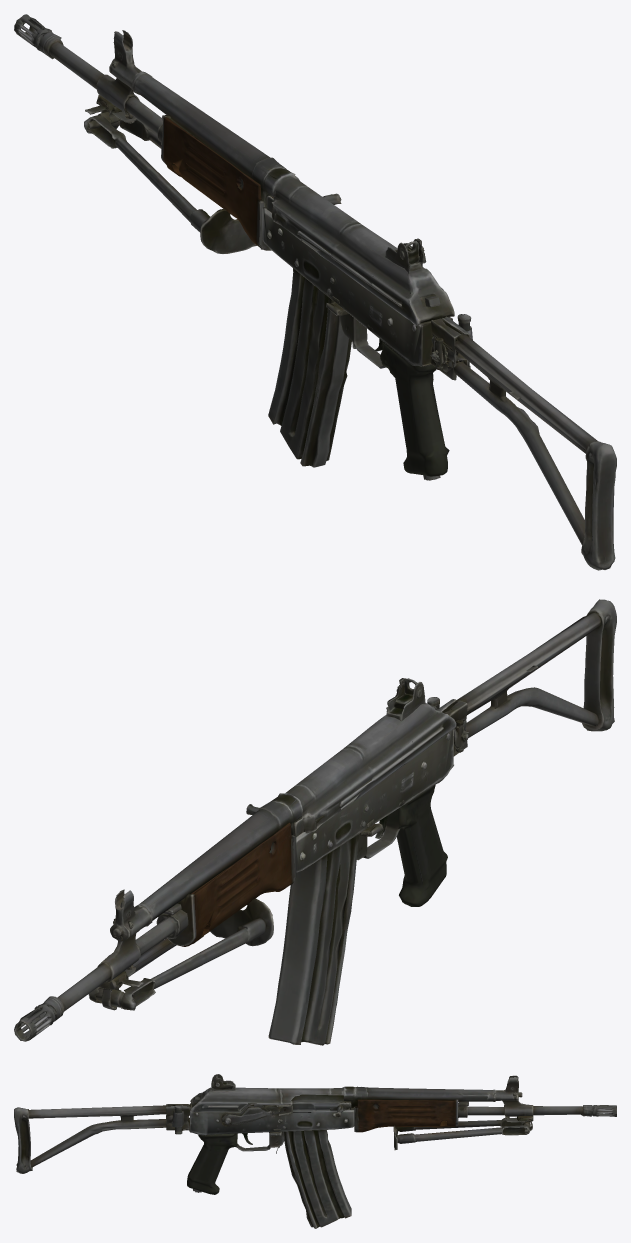
The model's file is galil.glb.
3 views of the same model, one above another, from view 1: azimuth 30°, elevation 25°; view 2: azimuth 150°, elevation 25°; view 3: azimuth 270°, elevation 25° (orthographic). The views are drawn at different scales.
Visible parts, largest first — view 1: govde; view 2: govde; view 3: govde.
Part boxes in pixels (bbox=[...]): govde: bbox=[14, 14, 616, 570]; govde: bbox=[14, 599, 616, 1045]; govde: bbox=[14, 1074, 616, 1228].
Size of the model in its own units: 0.0784 by 0.2692 by 0.979.
Materials: 1 (1 with a texture image).
